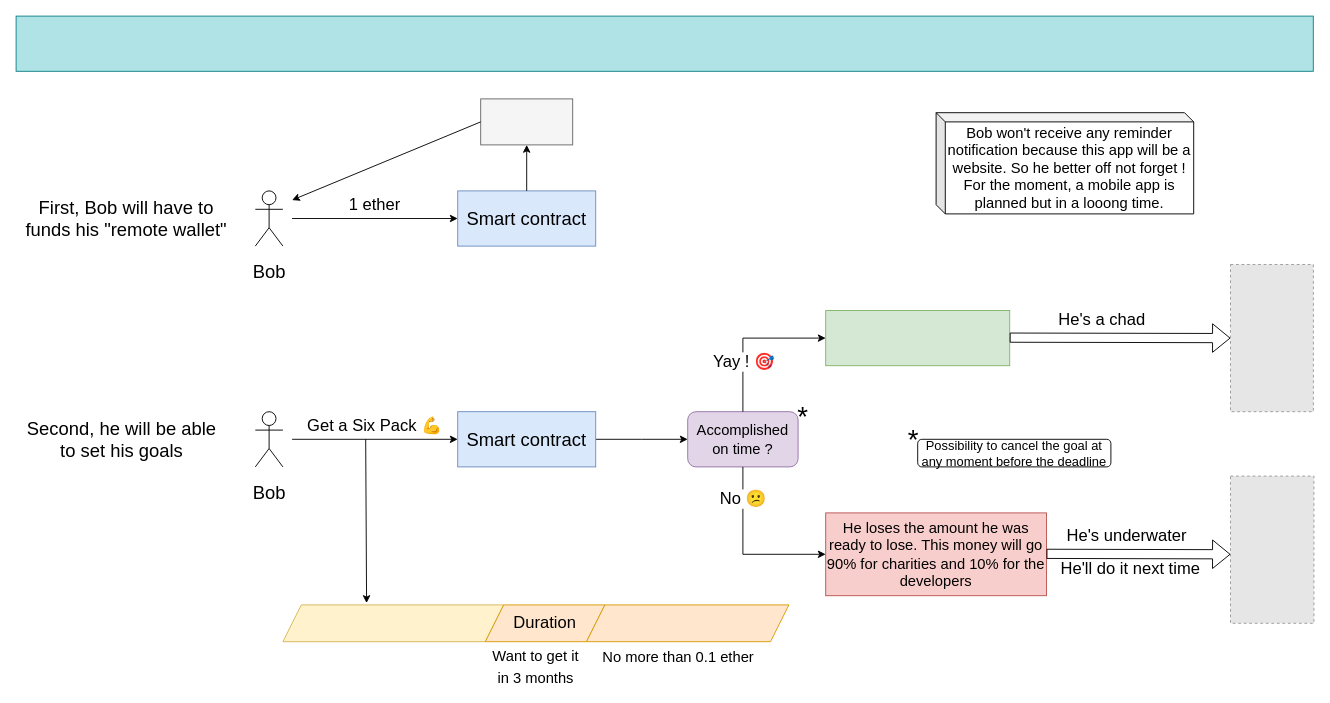
Some shapes in this 1330 by 703 pixel diagram are drawn without their labels. Grey dashed boxes stand in for pictures. Each missing label, with the centre of its shape:
Amount willing to lose: point (687, 623)
Arguments given with :: point (393, 623)
Bob doesn't loses anything on his "remote wallet": point (917, 338)
Possibility to withdraw: point (526, 121)
Spouf: point (664, 43)
